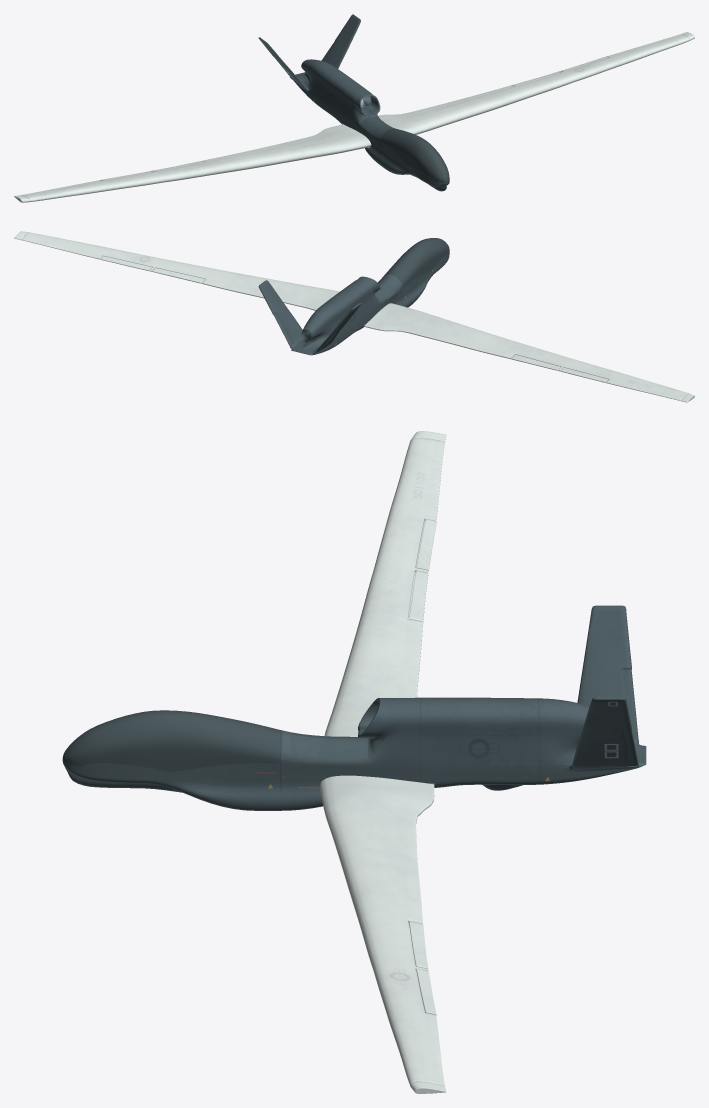
3 views of the same model, one above another, from view 1: azimuth 30°, elevation 25°; view 2: azimuth 150°, elevation 25°; view 3: azimuth 270°, elevation 25° (orthographic). The views are drawn at different scales.
Parts seen in each view (by area): view 1: RQ4B; view 2: RQ4B; view 3: RQ4B.
Part boxes in pixels (bbox=[...]): RQ4B: bbox=[14, 14, 694, 202]; RQ4B: bbox=[14, 231, 694, 402]; RQ4B: bbox=[62, 431, 646, 1093].
Bounding box in the file's own units: 39.9 × 4.25 × 14.98.
Materials: 1 (1 with a texture image).
